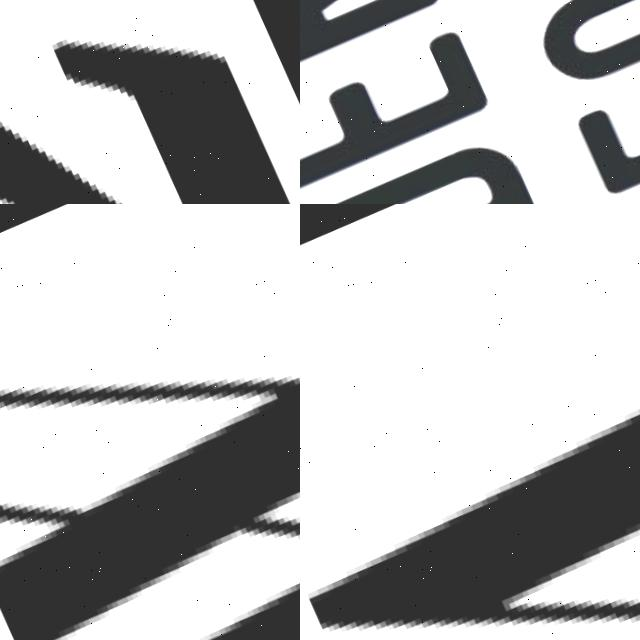0: (523, 0, 640, 102)
2: (0, 0, 300, 204)
A: (300, 265, 640, 640)
D: (300, 111, 542, 204)
E: (300, 6, 496, 204)
F: (573, 1, 640, 200)
R: (300, 0, 446, 111)
W: (0, 204, 300, 640)
